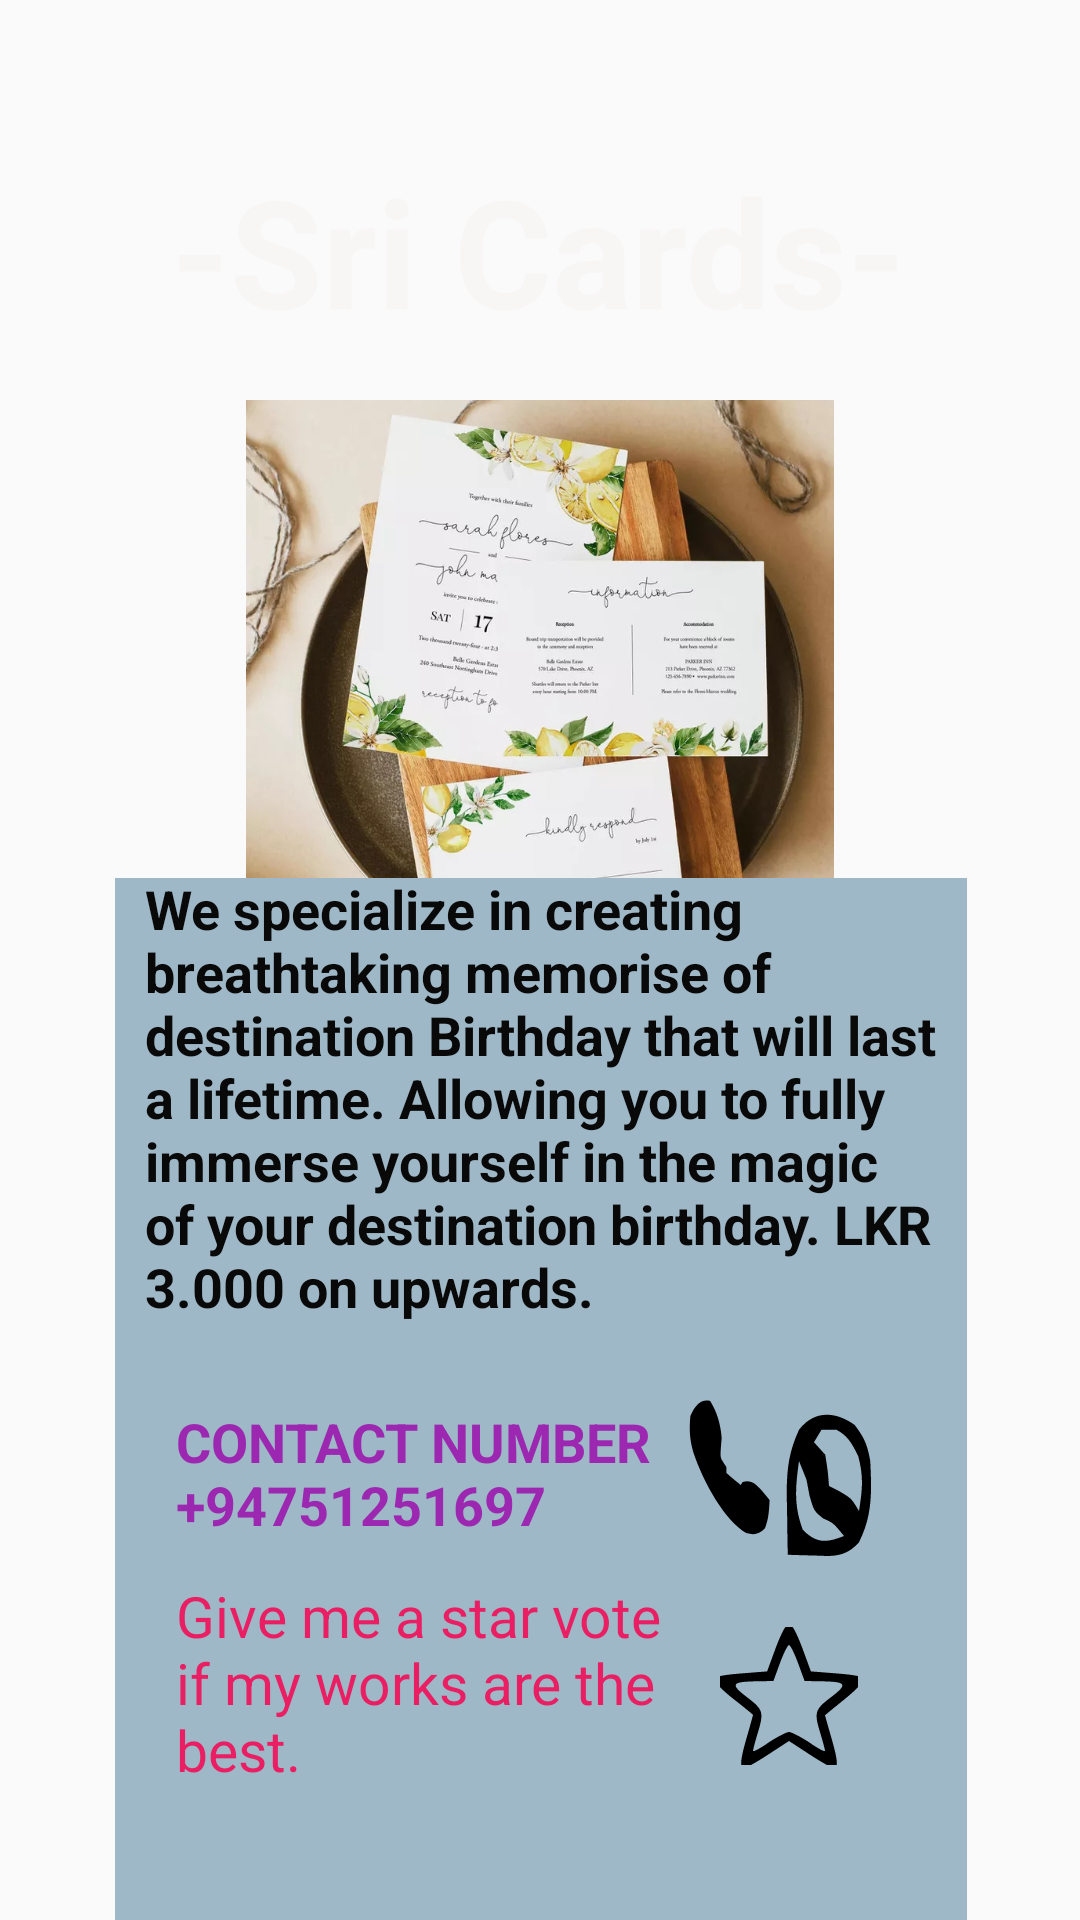

Icon bounding boxes for this 1080*1920 phone screenshot, format (x1, y1, x2, y2):
phone number: (689, 1400, 770, 1535)
